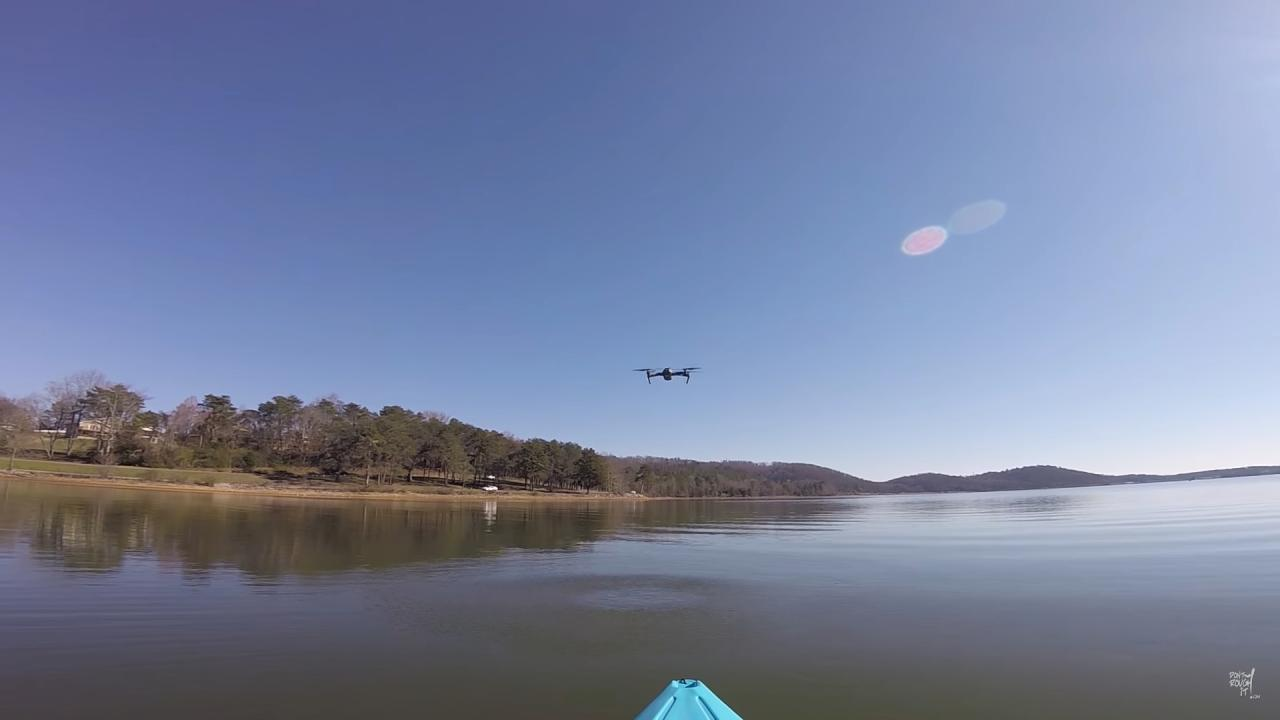Drone: (626, 354, 709, 395)
